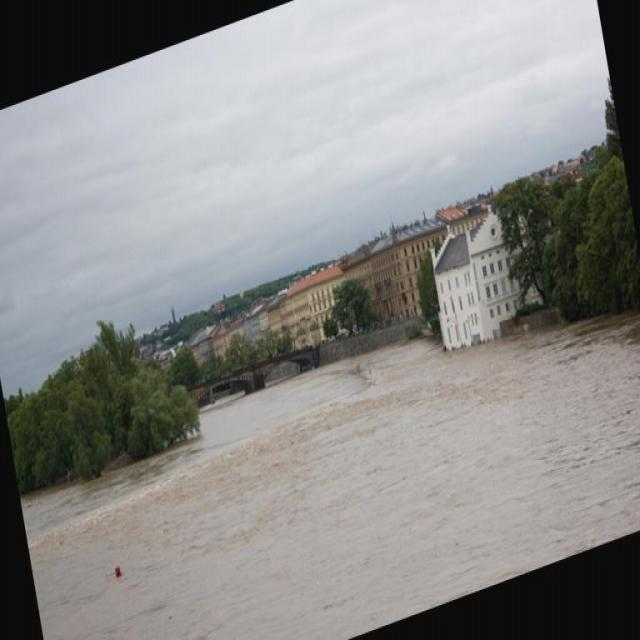flood: (12, 220, 639, 639)
